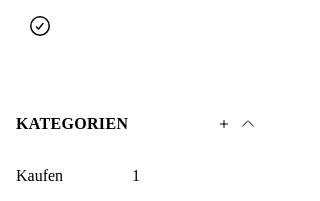
Test case: Sidebar › collapses secondary sections when the chevron is activated
Expected: the link "Kaufen 1" is shown, [16,167,140,184]
Click the button named "Kategorien einklappen".
click(248, 124)  # box [240,116,256,132]
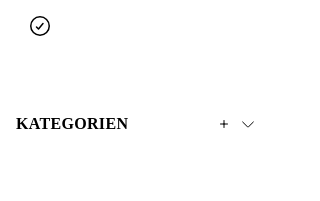
Expected: the link "Kaufen" is gone
Expected: the button named "Kategorien ausklappen" is shown, [240,116,256,132]
